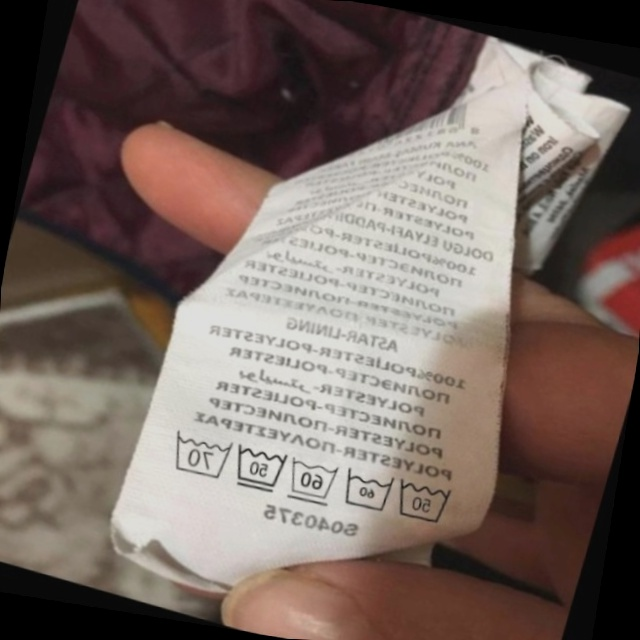50C: (385, 466, 462, 534), (223, 436, 293, 501)
60C: (277, 448, 344, 511), (332, 459, 400, 521)
70C: (159, 422, 236, 486)
